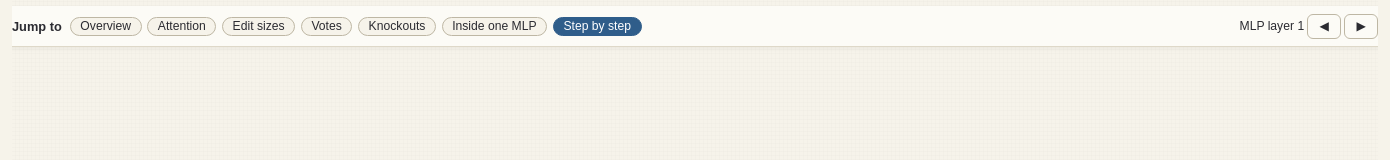
Test case: the stepper shows and moves the shared MLP layer
expect the element with test id "nav-layer" shows "MLP layer 1": met, box left=1240, top=14, right=1378, bottom=39
Click the button with test id "nav-next". click: (1361, 26)
box: left=1344, top=14, right=1378, bottom=39
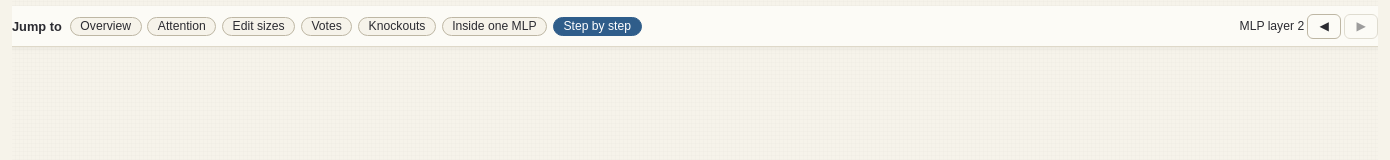
expect the element with test id "nav-layer" shows "MLP layer 2": met, box left=1240, top=14, right=1378, bottom=39
